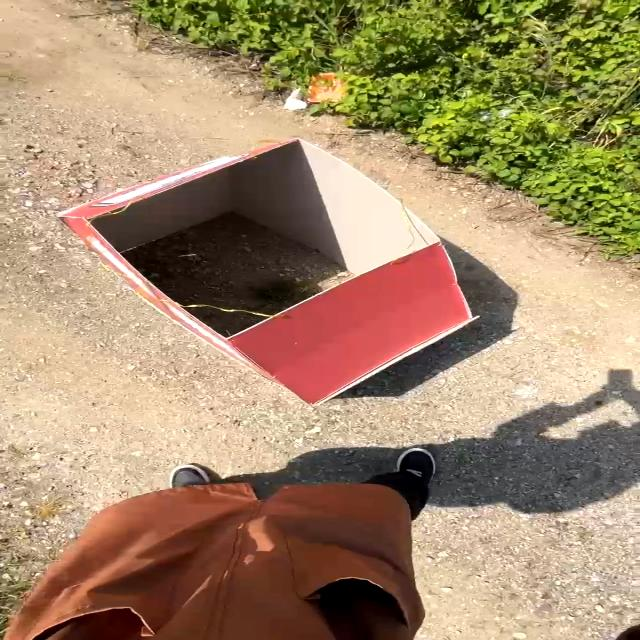red_car: (24, 130, 524, 420)
